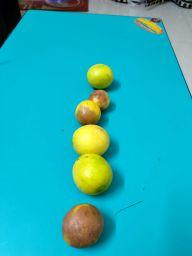lemon: (61, 202, 104, 249), (73, 154, 114, 195), (72, 124, 110, 156), (87, 64, 114, 89), (75, 100, 101, 125), (90, 89, 110, 110)
